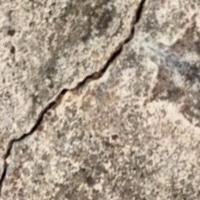crack: (1, 0, 153, 197)
